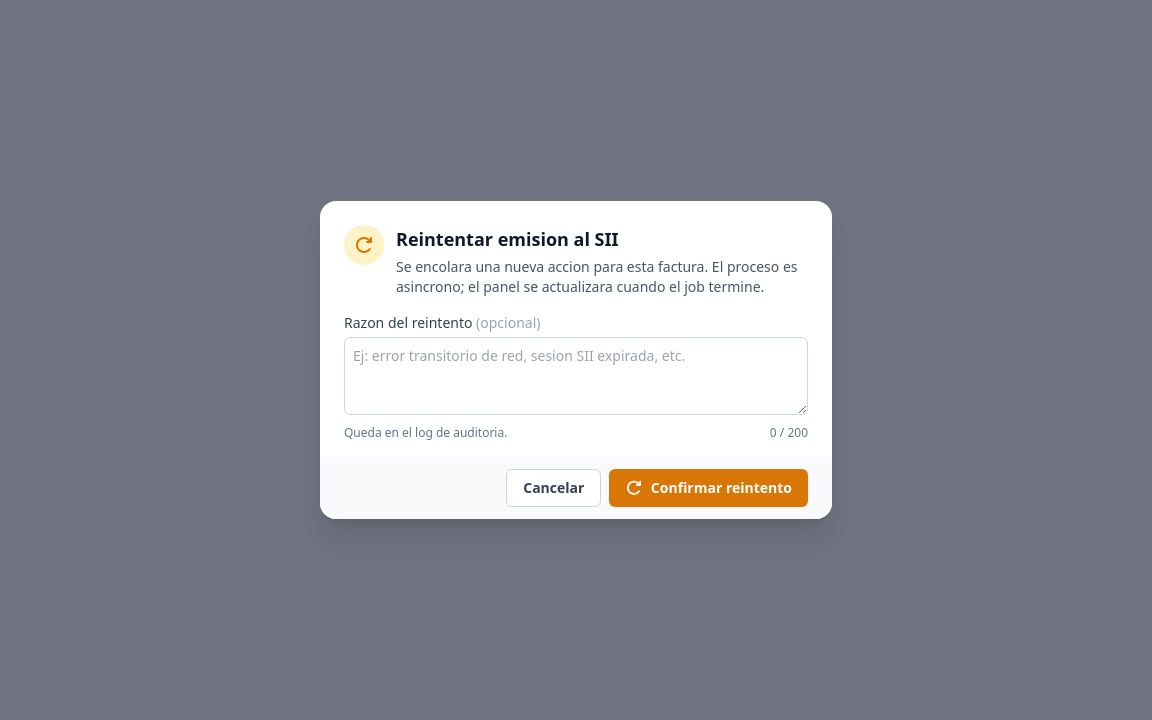
Test: ModalReintentarSii › contador de caracteres se actualiza con la razon
In the text box with test id "razon-reintento-textarea": (576, 376) [344, 337, 808, 415], type "hola"
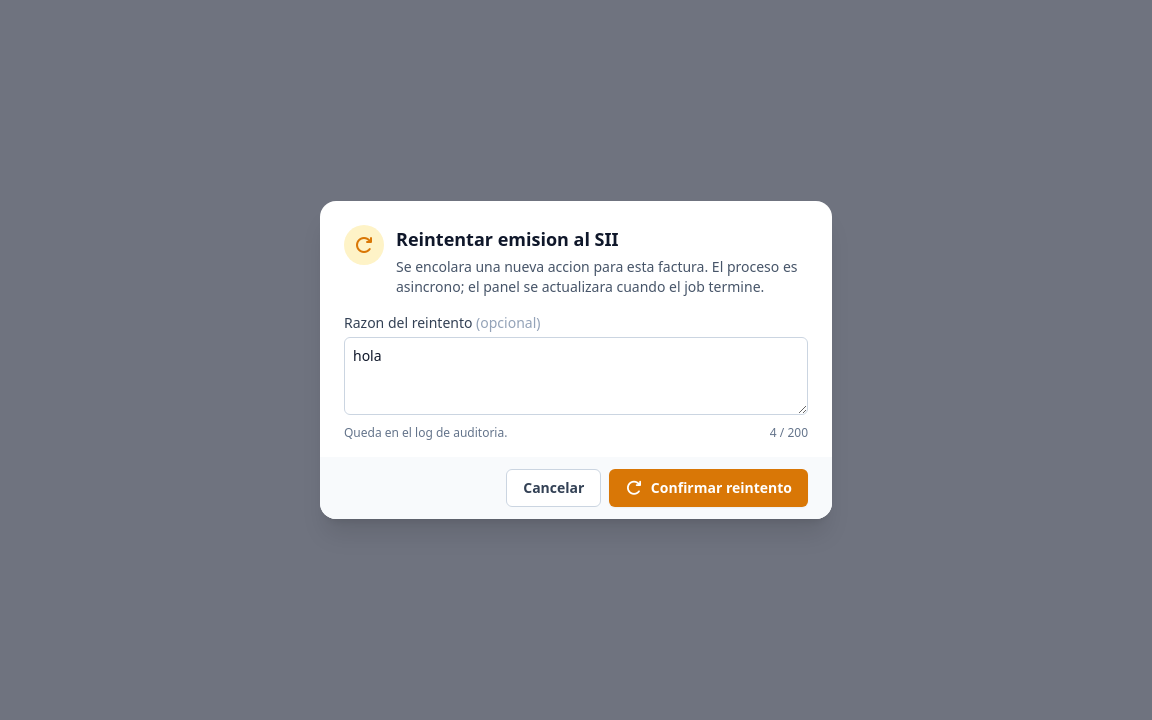
Now the text with test id "razon-reintento-contador" reads "4 / 200", box [770, 425, 808, 441]
